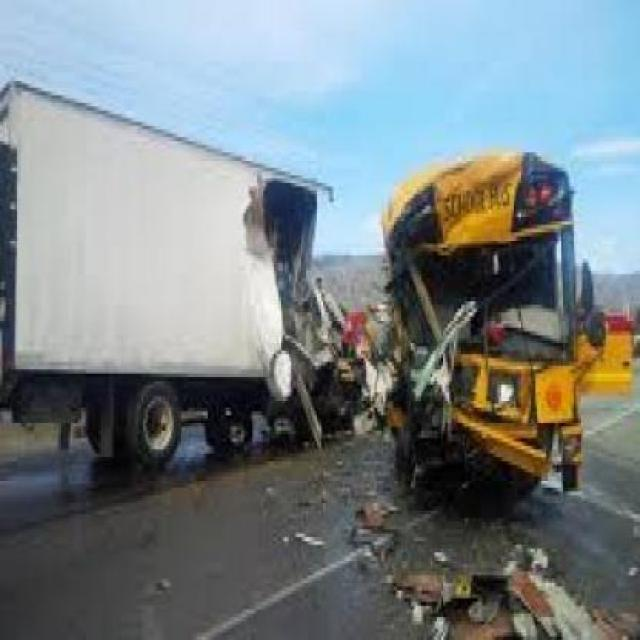accident: (121, 97, 622, 534)
